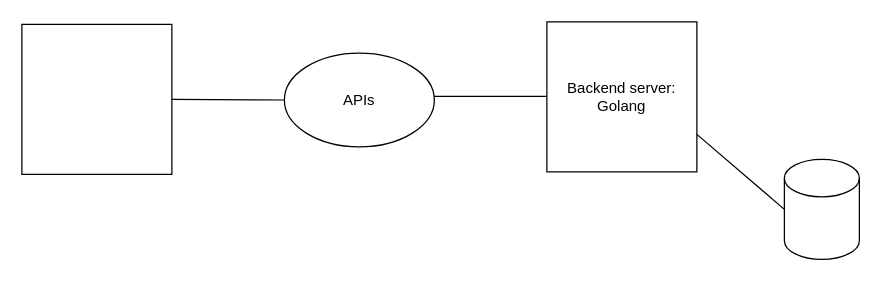
Image size: 881x281. Some labels were removed from this diagram. The centre of each missing label's shape, as x and y in pixels:
"Front-end webpage: HTML + CSS + JS" belongs at [96,98].
"MYSQL DB" belongs at [821,208].
